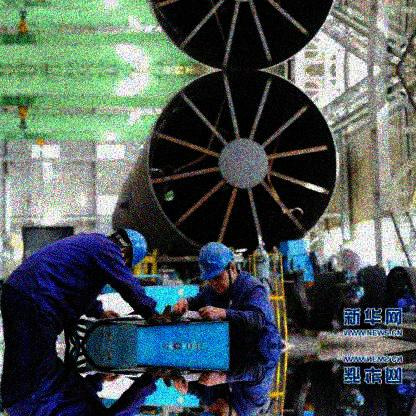helmet: (199, 241, 238, 296), (107, 229, 149, 268), (202, 396, 239, 416)
